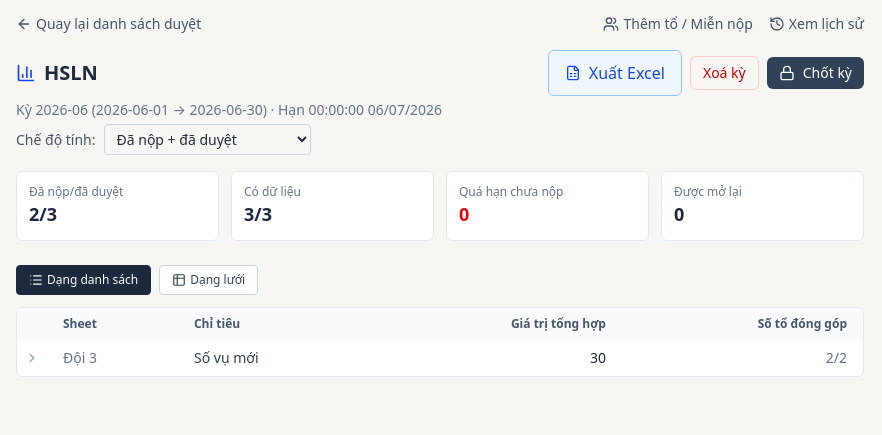
Test: ReportPeriodSummaryPage › shows an empty-contributors note when no team currently matches the chosen mode
Click the row with test id "field-row-Đội 3!C6": [80, 358] box [17,340,863,376]
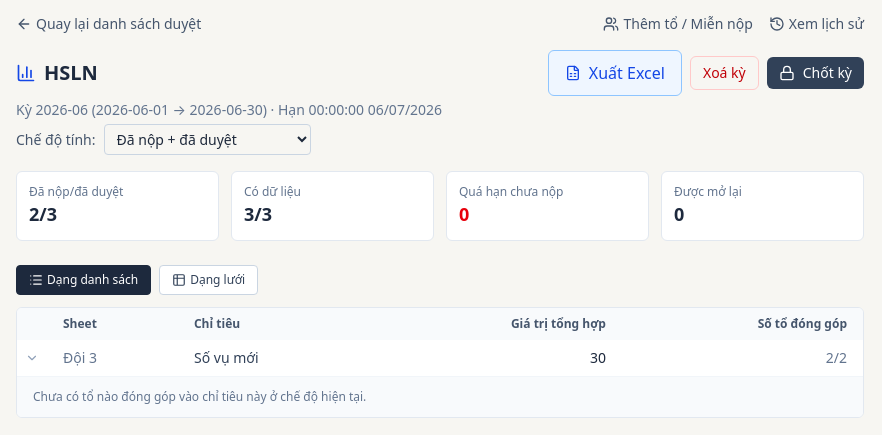
Expected: the cell with test id "contributors-Đội 3!C6" is shown, [17,376,863,417]
Expected: the cell with test id "contributors-Đội 3!C6" shows "Chưa có tổ nào đóng góp", [33,388,366,405]
